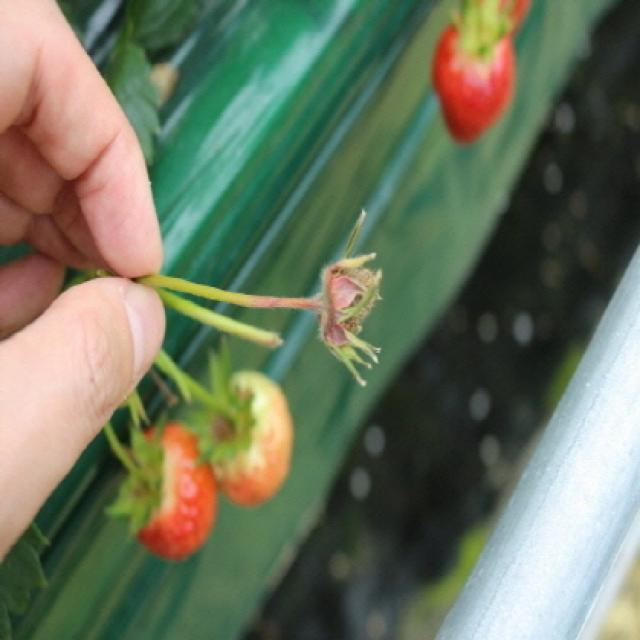Gray Mold: (318, 253, 384, 387)
